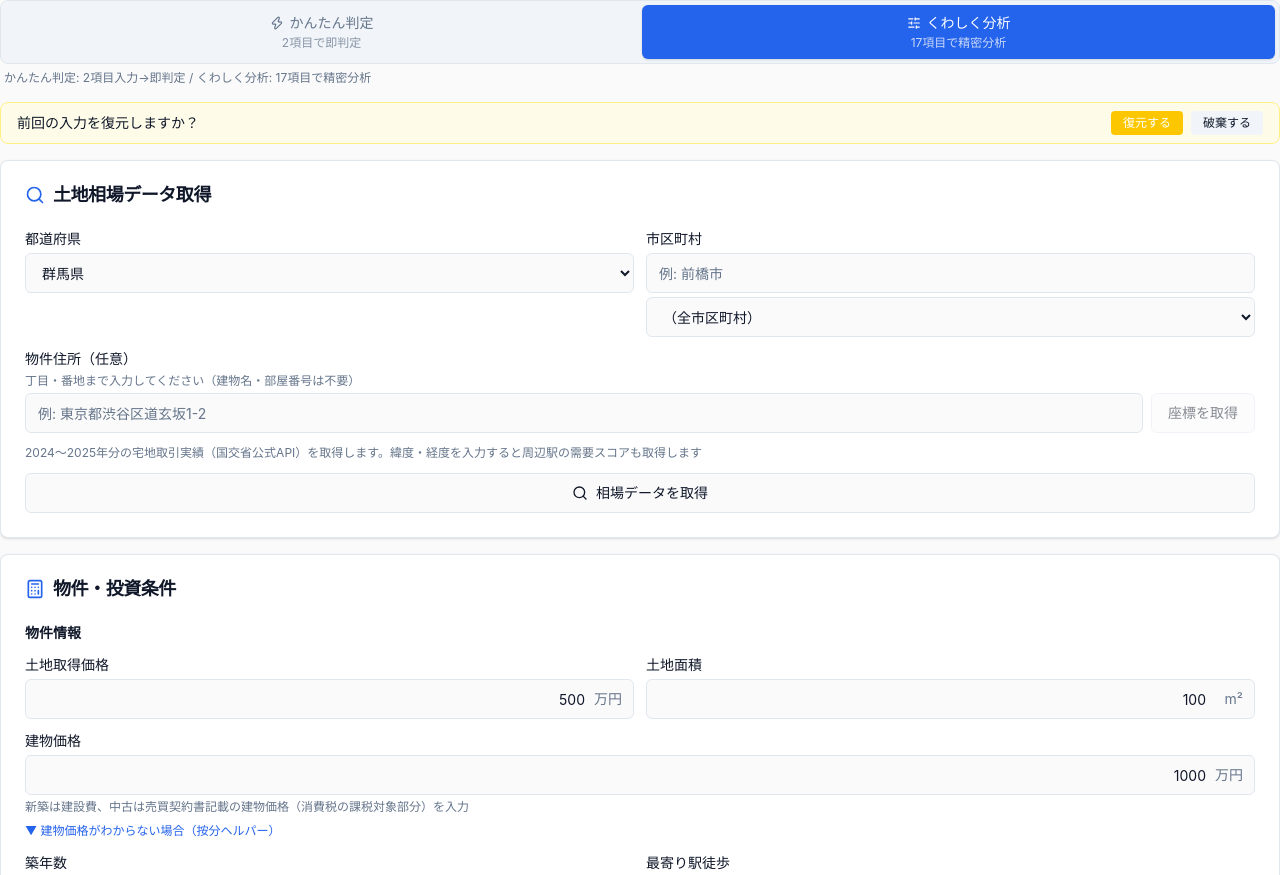
InvestmentForm › 住所ジオコーディング › 住所入力後「座標を取得」ボタン押下で精度ラベルが表示される
Type "東京都渋谷区道玄坂1-2" into the field named "物件住所" at (584, 413), box [25,393,1143,433]
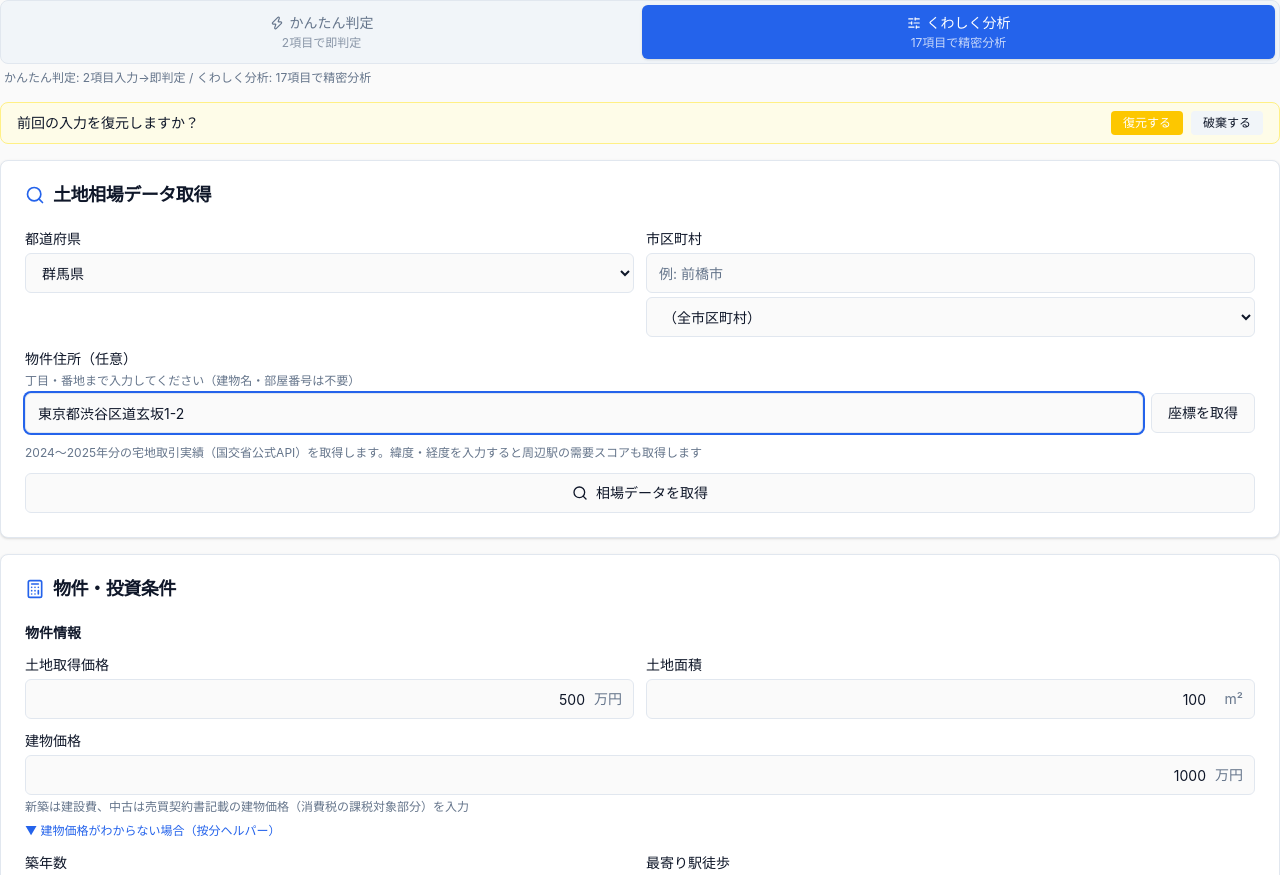
Click the button "座標を取得" at (1203, 413), box [1151,393,1255,433]
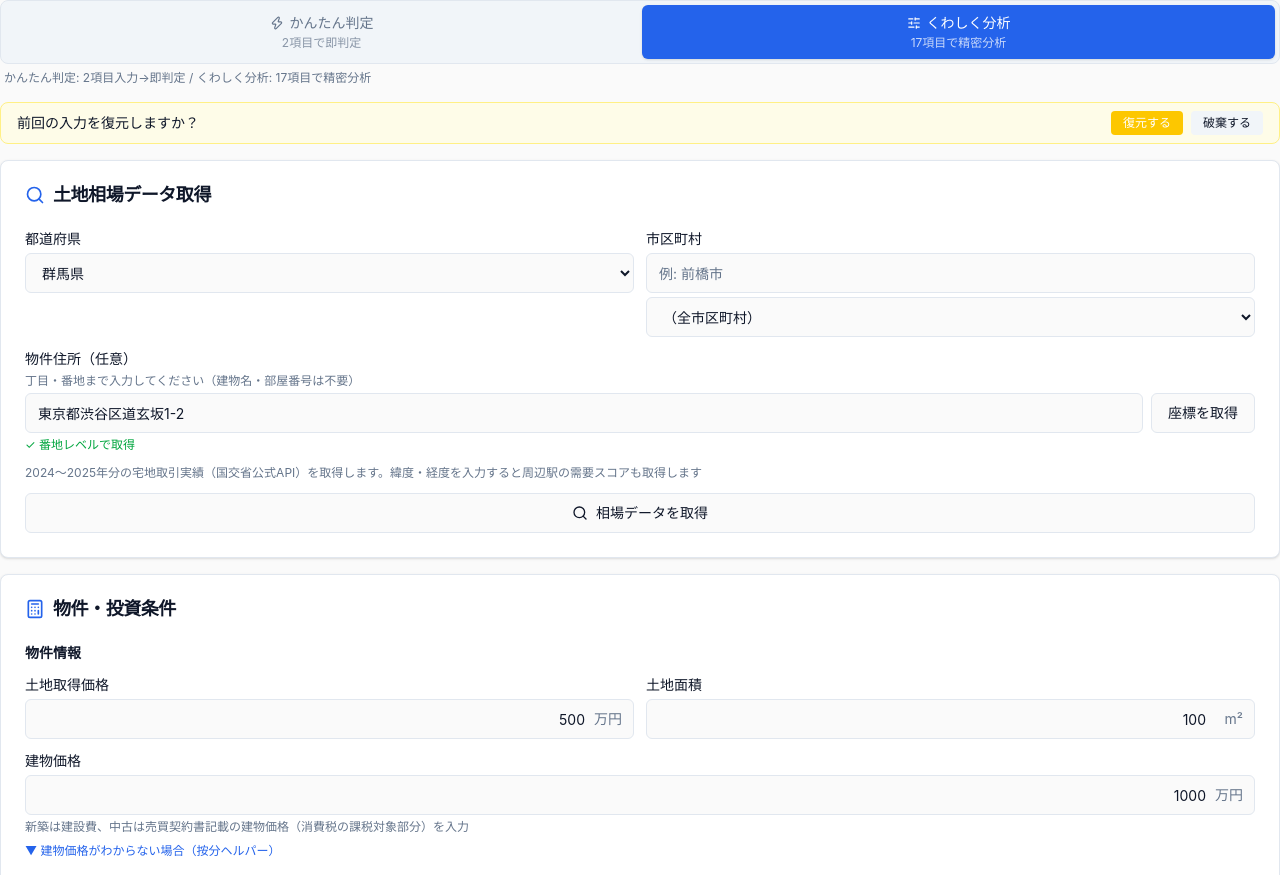
Expected: the text "✓ 番地レベルで取得" is shown, [25,437,135,452]
